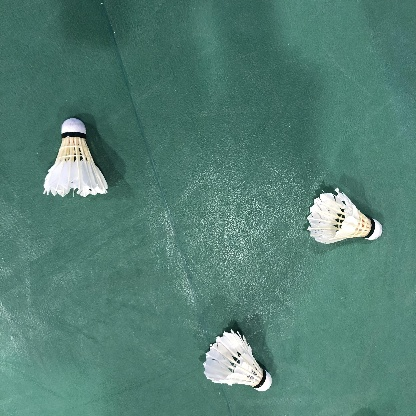ball_single: (44, 118, 108, 197), (203, 329, 272, 391), (307, 188, 382, 244)
